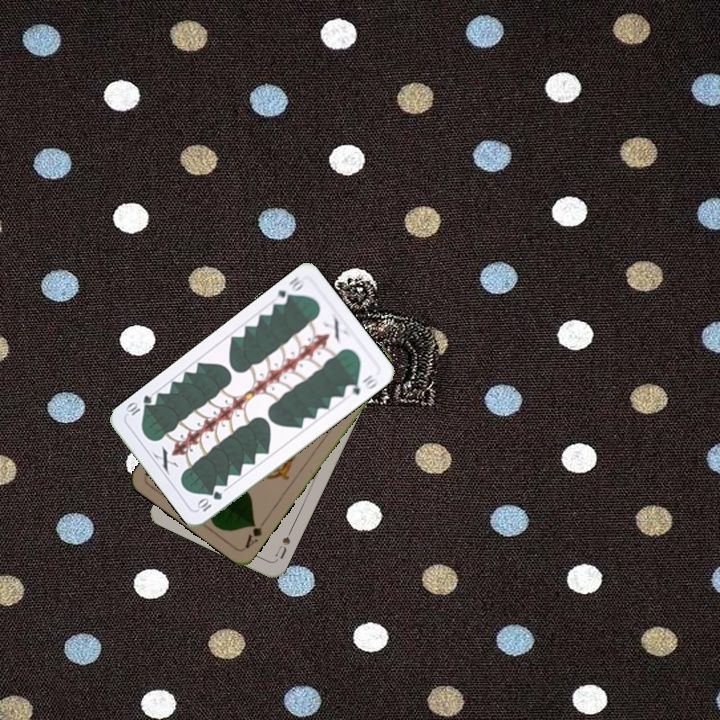G10: (270, 272, 308, 308), (193, 487, 225, 514)
GA: (241, 516, 269, 552)
SU: (271, 525, 294, 562)
